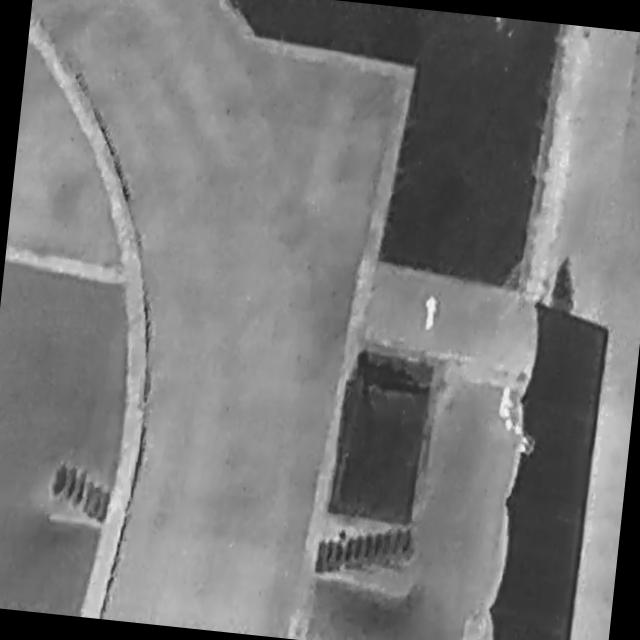person: (422, 291, 441, 333), (497, 385, 517, 421)
